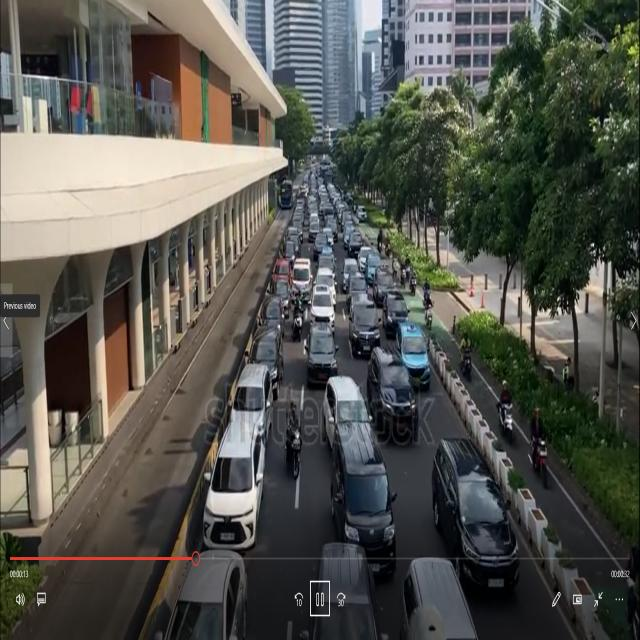Ambulance: (294, 251, 314, 312)
